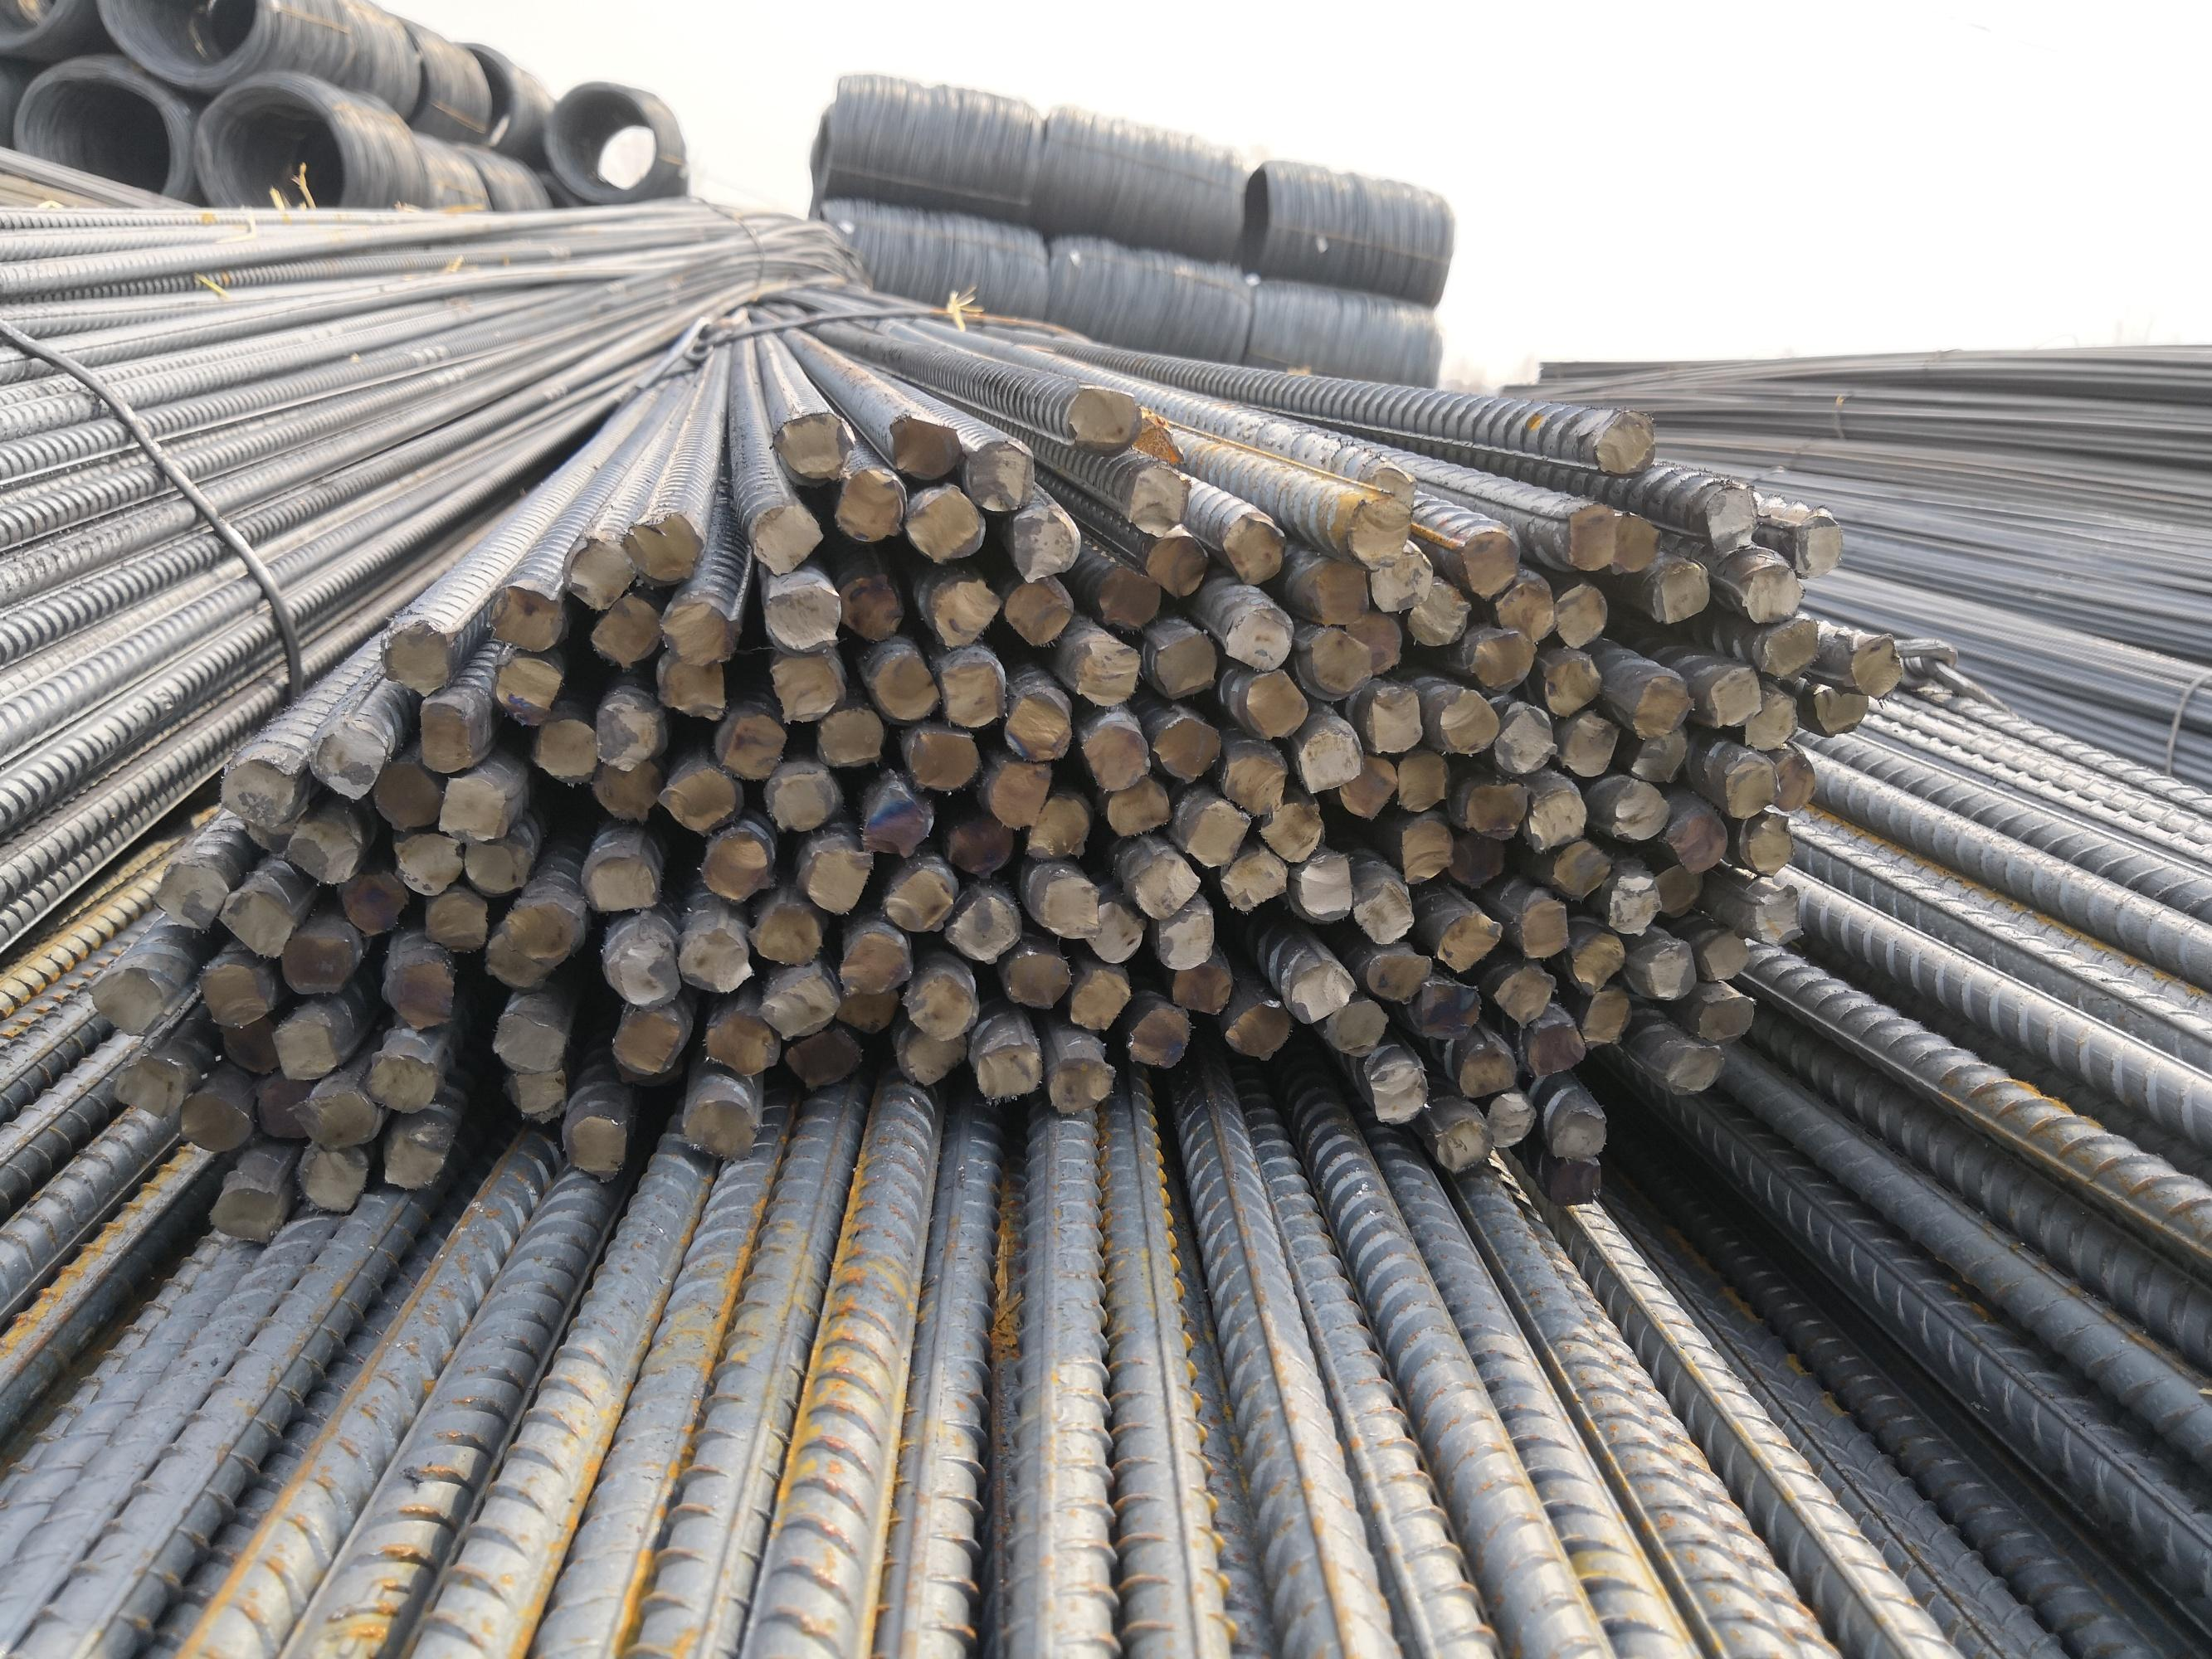bar: (894, 474, 983, 565), (767, 406, 858, 484), (305, 718, 387, 802), (554, 533, 638, 615), (579, 589, 662, 671), (957, 430, 1041, 512), (431, 769, 518, 847), (594, 931, 682, 1009), (619, 509, 706, 587), (211, 756, 302, 831), (214, 880, 295, 964), (481, 650, 565, 730), (760, 647, 845, 725), (943, 882, 1021, 967), (481, 579, 568, 655), (654, 594, 743, 669), (99, 1051, 192, 1122), (852, 779, 934, 859), (1062, 375, 1143, 455), (1143, 706, 1222, 789), (373, 615, 453, 695), (795, 836, 875, 917), (924, 570, 1004, 650), (995, 568, 1077, 647), (743, 502, 826, 579), (497, 894, 582, 969), (671, 918, 757, 993), (980, 744, 1053, 831), (82, 967, 171, 1039), (148, 854, 228, 932), (865, 643, 945, 721), (1232, 664, 1313, 742), (880, 408, 964, 483), (760, 584, 847, 655), (286, 1089, 382, 1154), (380, 953, 458, 1032), (879, 857, 957, 936), (995, 685, 1074, 763), (526, 711, 603, 791), (934, 647, 1009, 728), (654, 763, 737, 836), (1121, 847, 1204, 920), (485, 1007, 572, 1077), (586, 751, 666, 826), (1002, 504, 1077, 584), (1123, 458, 1196, 540), (901, 723, 985, 795), (755, 974, 842, 1042), (652, 643, 729, 720), (940, 802, 1016, 878), (1077, 716, 1154, 793), (366, 756, 444, 831), (1213, 840, 1288, 917), (1625, 667, 1700, 744), (605, 1004, 683, 1077), (701, 1004, 779, 1077), (833, 467, 905, 547), (382, 1110, 451, 1192), (293, 1140, 368, 1215), (586, 695, 661, 770), (1354, 681, 1429, 756), (1070, 633, 1143, 709), (1147, 624, 1220, 701), (1178, 793, 1252, 870), (335, 866, 413, 938), (1218, 990, 1297, 1061), (1342, 491, 1414, 570), (274, 927, 354, 997), (579, 849, 659, 918), (744, 901, 824, 971), (1063, 955, 1133, 1035), (713, 709, 788, 782), (1302, 620, 1375, 695), (1433, 901, 1506, 976), (682, 1093, 758, 1164), (1452, 526, 1523, 603), (263, 1016, 342, 1086), (697, 833, 776, 903), (1140, 525, 1210, 603), (1490, 699, 1560, 777), (453, 829, 533, 897), (837, 925, 912, 997), (830, 573, 905, 645), (1124, 995, 1196, 1070), (1433, 683, 1504, 758), (1389, 810, 1461, 885), (248, 1066, 317, 1143), (195, 960, 272, 1030), (363, 1044, 439, 1114), (1403, 570, 1473, 647), (1752, 617, 1829, 687), (760, 763, 838, 831), (1023, 788, 1091, 866), (1218, 605, 1297, 673), (281, 821, 361, 887), (1220, 509, 1286, 589), (173, 1089, 254, 1154), (805, 708, 887, 772), (1042, 1046, 1116, 1117), (1091, 561, 1164, 633), (1300, 554, 1372, 627), (898, 1018, 967, 1093), (905, 965, 974, 1040), (1150, 901, 1220, 976), (1290, 727, 1365, 796), (387, 829, 464, 897), (1281, 958, 1358, 1026), (783, 1026, 865, 1089), (1485, 960, 1557, 1032), (561, 1110, 631, 1183), (1220, 744, 1290, 817), (1035, 868, 1103, 943), (1360, 939, 1435, 1007), (1457, 774, 1532, 842), (1598, 863, 1665, 939), (1098, 775, 1177, 840), (413, 694, 476, 774), (973, 1032, 1044, 1101), (1590, 406, 1659, 477), (418, 889, 492, 957), (1002, 945, 1075, 1012), (1253, 796, 1325, 864), (1415, 974, 1483, 1046), (1351, 877, 1417, 950), (481, 927, 556, 992), (1340, 605, 1403, 681), (1367, 545, 1436, 613), (1694, 483, 1762, 552), (1607, 775, 1673, 847), (1541, 838, 1614, 903), (1466, 627, 1539, 692), (1335, 746, 1398, 821), (1558, 498, 1619, 575), (1384, 746, 1452, 814), (1523, 784, 1590, 854), (202, 1187, 282, 1244), (1290, 850, 1354, 922), (1365, 1056, 1428, 1129), (1717, 748, 1780, 821), (1567, 920, 1628, 995), (500, 1061, 570, 1126), (1555, 709, 1619, 779), (1743, 878, 1808, 948), (211, 1014, 282, 1077), (1522, 1018, 1588, 1084), (1537, 653, 1604, 720), (1321, 995, 1389, 1060), (1081, 897, 1143, 967), (1166, 957, 1236, 1019), (1494, 577, 1557, 647), (1740, 561, 1809, 624), (1548, 579, 1609, 650), (234, 805, 310, 861), (1455, 1033, 1518, 1101), (1644, 561, 1712, 624), (1428, 1117, 1501, 1175), (1445, 828, 1508, 894), (1785, 512, 1846, 580), (1661, 1035, 1727, 1096), (1740, 810, 1801, 877), (1691, 985, 1759, 1044), (1604, 509, 1663, 577), (1360, 462, 1429, 519), (1666, 809, 1729, 871), (1539, 1148, 1607, 1206), (1579, 981, 1635, 1051), (1768, 742, 1822, 814), (1849, 627, 1903, 699), (1639, 938, 1698, 1002), (1628, 725, 1694, 782), (1809, 680, 1876, 737), (1515, 897, 1574, 960), (1133, 411, 1191, 476), (831, 981, 898, 1037), (1485, 1086, 1539, 1154), (1706, 664, 1762, 728), (614, 1044, 683, 1094), (1743, 687, 1797, 749), (1550, 1103, 1607, 1161), (1691, 927, 1752, 981), (1649, 861, 1705, 918)
